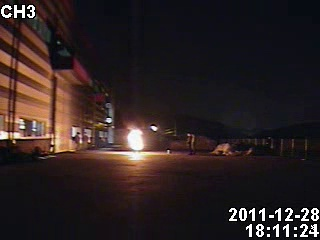fire: (124, 118, 152, 155)
